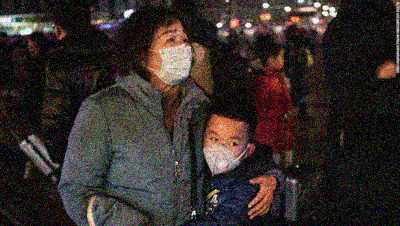with_mask: (150, 26, 193, 86), (204, 127, 245, 175)
without_mask: (274, 51, 286, 72)
